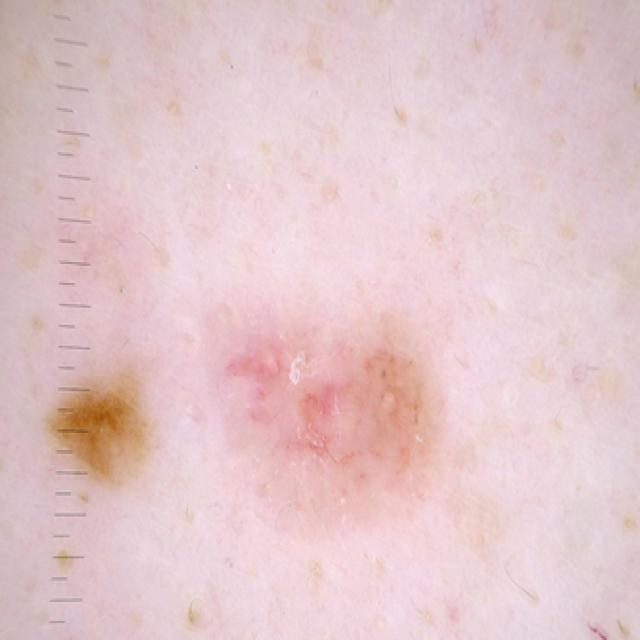Carcinoma: (228, 298, 511, 551), (22, 230, 196, 560)
